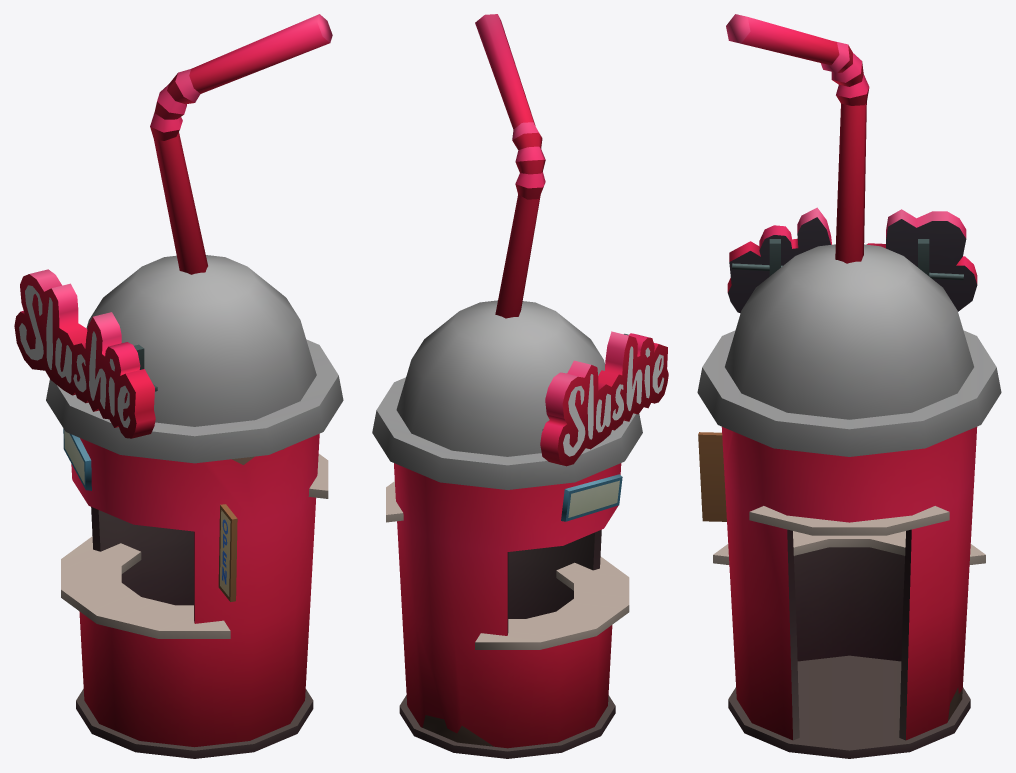
File: TSP_Slushie_Stand_01A.fbx
3 renders of one model, left to right at view 1: azimuth 30°, elevation 25°; view 2: azimuth 150°, elevation 25°; view 3: azimuth 270°, elevation 25°, orthographic. The views are drawn at different scales.
Visible parts, largest first — view 1: TSP_Slushie_Stand_01A, TSP_Slushie_Stand_01A_Lights; view 2: TSP_Slushie_Stand_01A, TSP_Slushie_Stand_01A_Lights; view 3: TSP_Slushie_Stand_01A.
Part boxes in pixels (x1,y1,x2,y2): TSP_Slushie_Stand_01A: (14, 14, 343, 758); TSP_Slushie_Stand_01A_Lights: (19, 285, 130, 427); TSP_Slushie_Stand_01A: (372, 14, 668, 758); TSP_Slushie_Stand_01A_Lights: (563, 346, 663, 456); TSP_Slushie_Stand_01A: (697, 14, 1001, 758).
Bounding box in the file's own units: 2.46 × 6.5 × 2.46.
